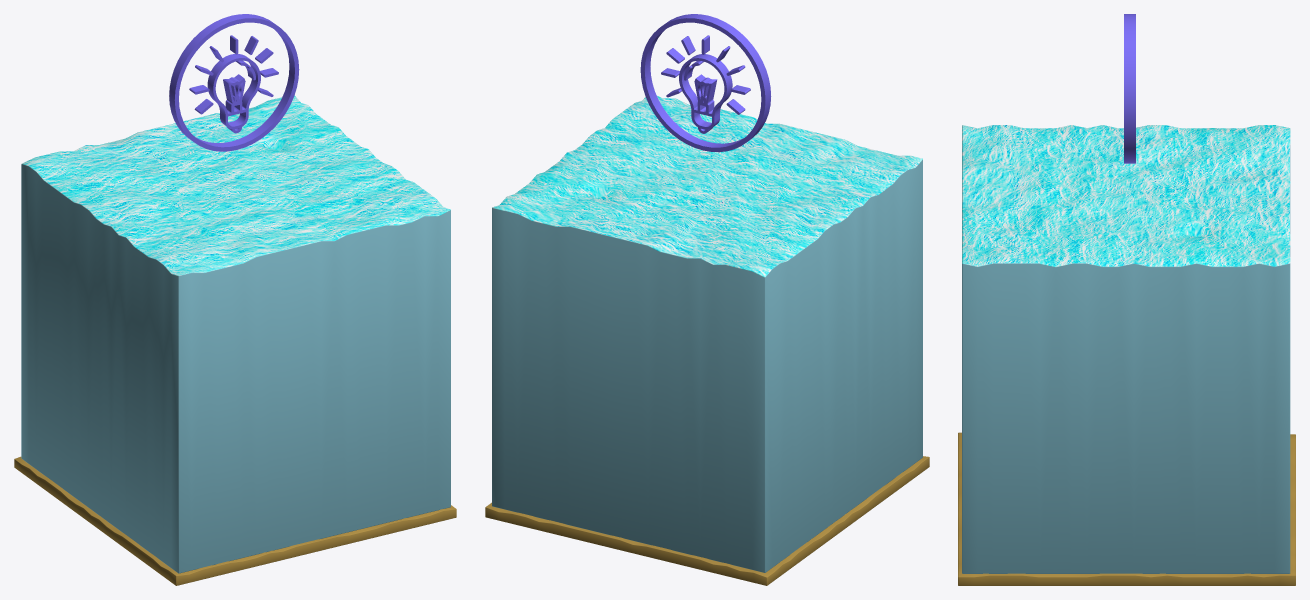
Rendered from water-lower-bulb.glb.
3 renders of one model, left to right at view 1: azimuth 30°, elevation 25°; view 2: azimuth 150°, elevation 25°; view 3: azimuth 270°, elevation 25°, orthographic. The views are drawn at different scales.
Visible parts, largest first — view 1: Sea, Curve.012, Sand; view 2: Sea, Curve.012, Sand; view 3: Sea, Sand, Curve.012.
Boxes of the visible parts, x1,y1,x2,y2 form: Sea: (21,95,450,573); Curve.012: (169,14,299,151); Sand: (14,456,456,585); Sea: (492,96,922,572); Curve.012: (640,14,771,152); Sand: (485,456,929,585); Sea: (962,125,1290,573); Sand: (958,432,1295,585); Curve.012: (1124,14,1135,163).
Bounding box in the file's own units: 107 × 173 × 107.
4 materials, 1 textured.
